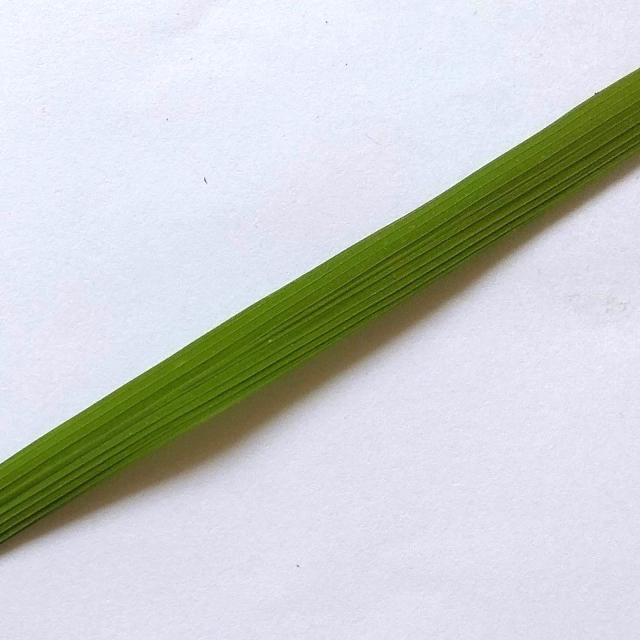healthy: (0, 64, 640, 543)
